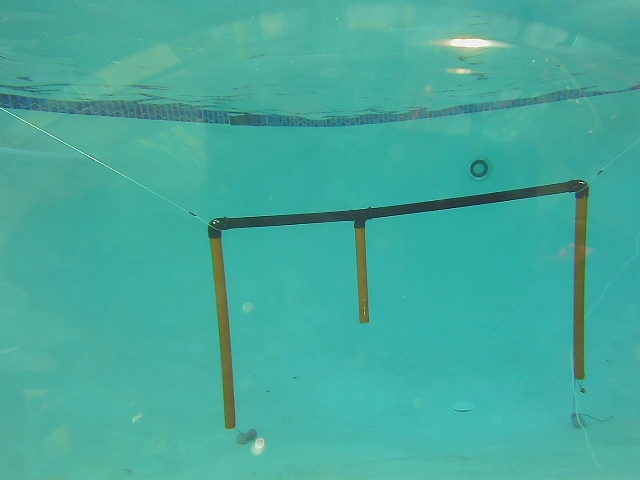Gate: (206, 227, 237, 437), (569, 190, 592, 380), (351, 220, 373, 329)
